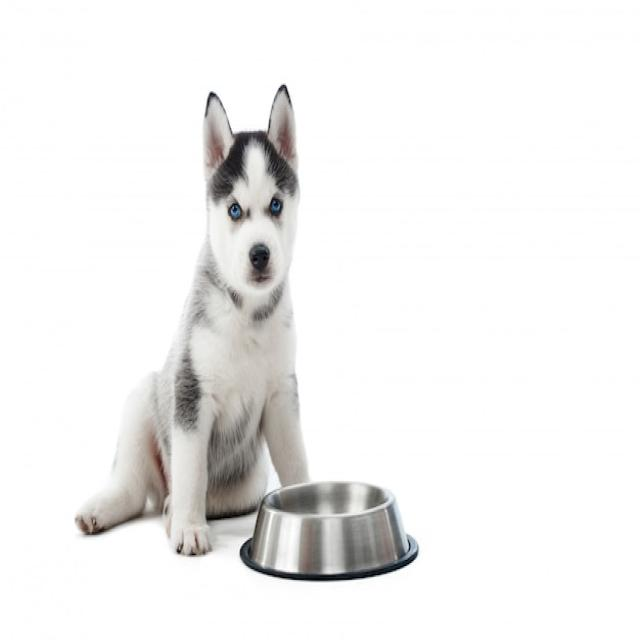Dog: (73, 84, 311, 562)
